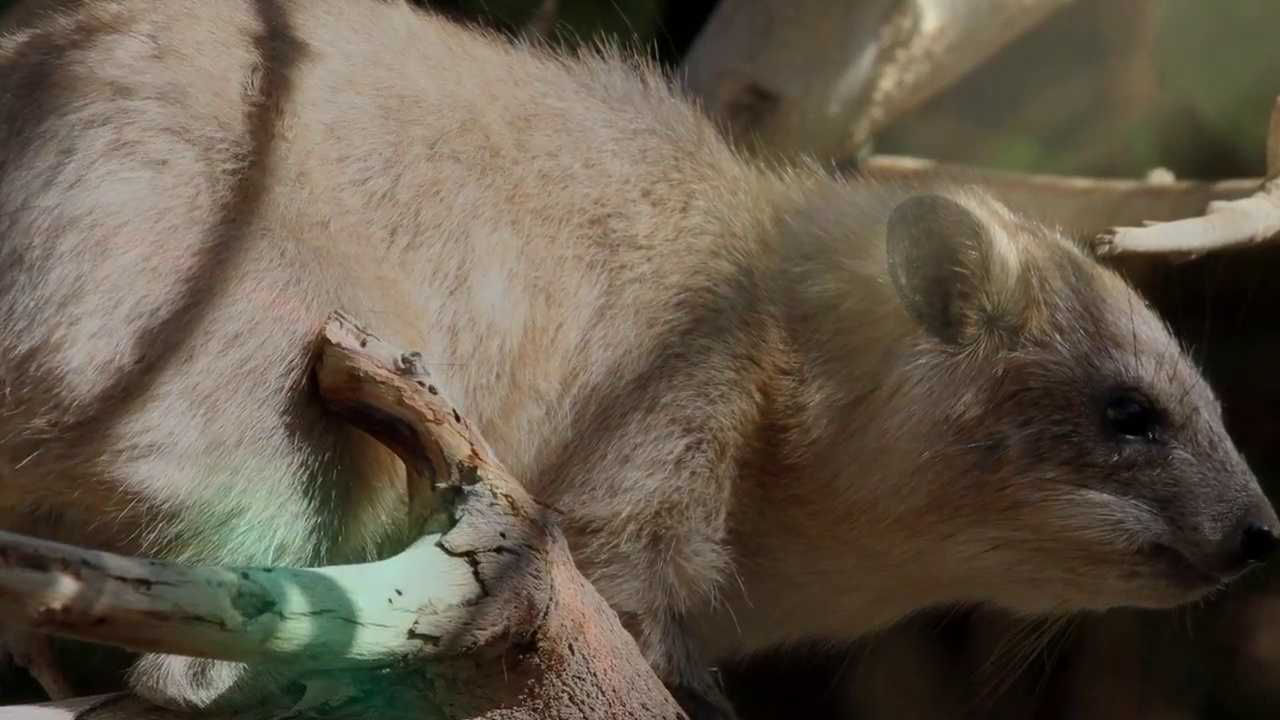Rock Hyrex: (2, 1, 1279, 650)
